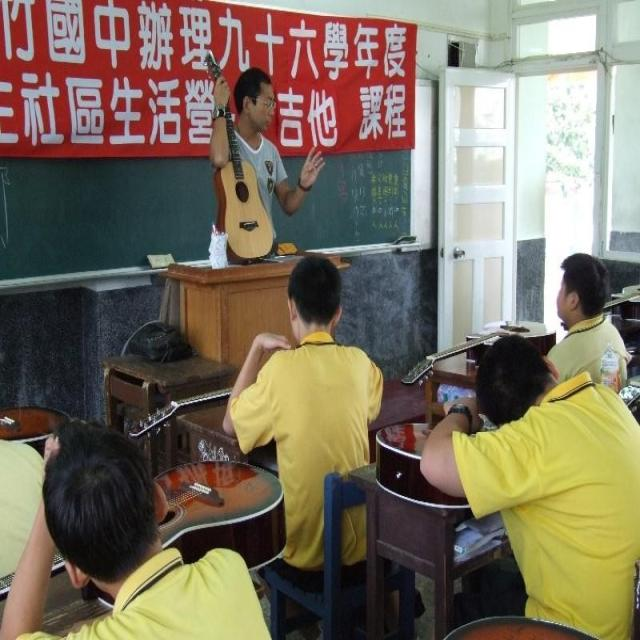guitar: (2, 461, 287, 584), (202, 45, 276, 260), (395, 318, 559, 388), (372, 419, 495, 509), (0, 400, 74, 462), (597, 281, 640, 323)
